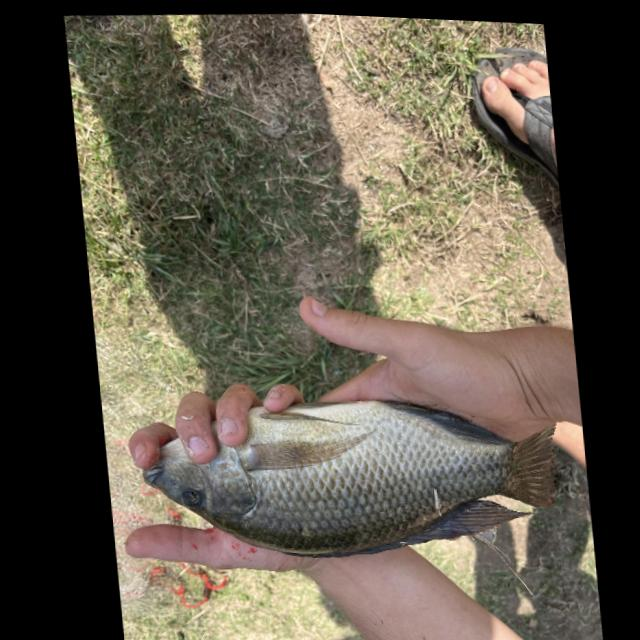Tilapia: (131, 376, 571, 579)
